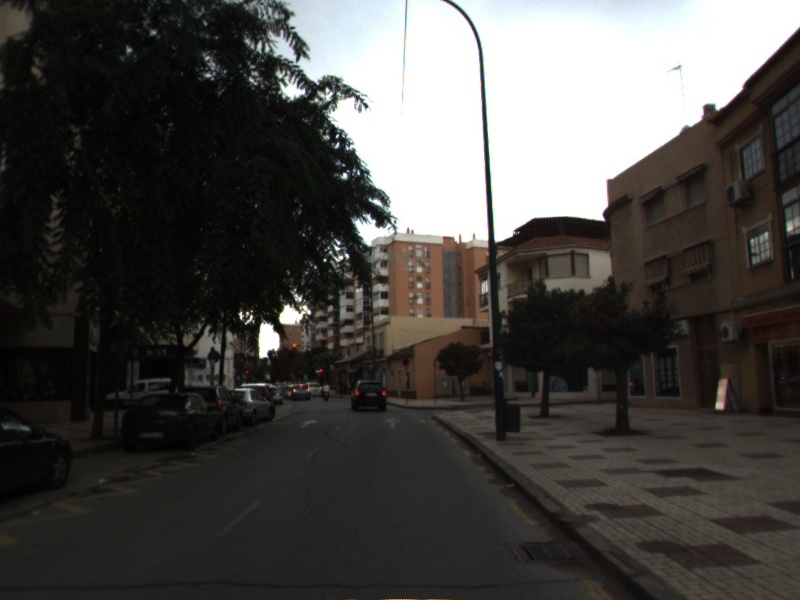STRAIGHT: (382, 416, 404, 430), (297, 417, 320, 430)
